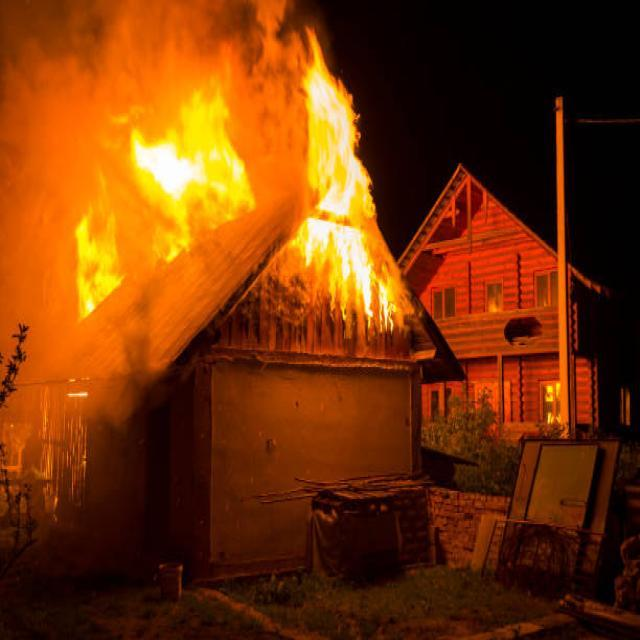Fire: (84, 68, 252, 286), (301, 51, 390, 322)
Smoke: (0, 1, 318, 226), (0, 200, 151, 440)
